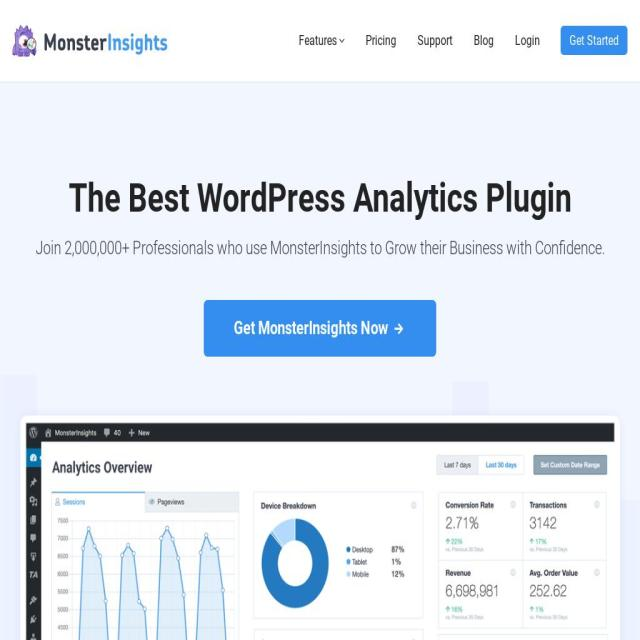button: (204, 300, 436, 357), (12, 25, 168, 57), (560, 26, 628, 55), (298, 26, 345, 55), (417, 26, 453, 55), (365, 26, 397, 55), (514, 26, 540, 55), (474, 26, 494, 55)
heading: (12, 178, 628, 218)
image: (12, 405, 628, 640), (12, 25, 168, 57)
text: (12, 232, 628, 264), (234, 317, 392, 338), (299, 32, 337, 48)
